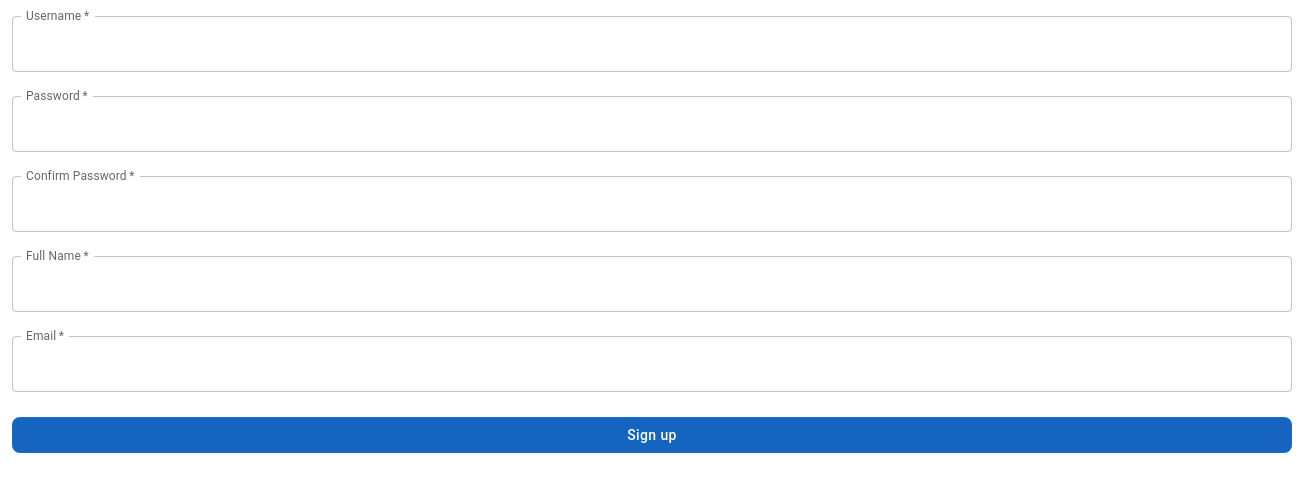
Test: Register Form › displays errors and does not submit the form with unmatched passwords
This screenshot has width=1304, height=493.
Type "myUsername" into the field labelled "Username" at {"x": 652, "y": 44}, box [12,16,1292,72]
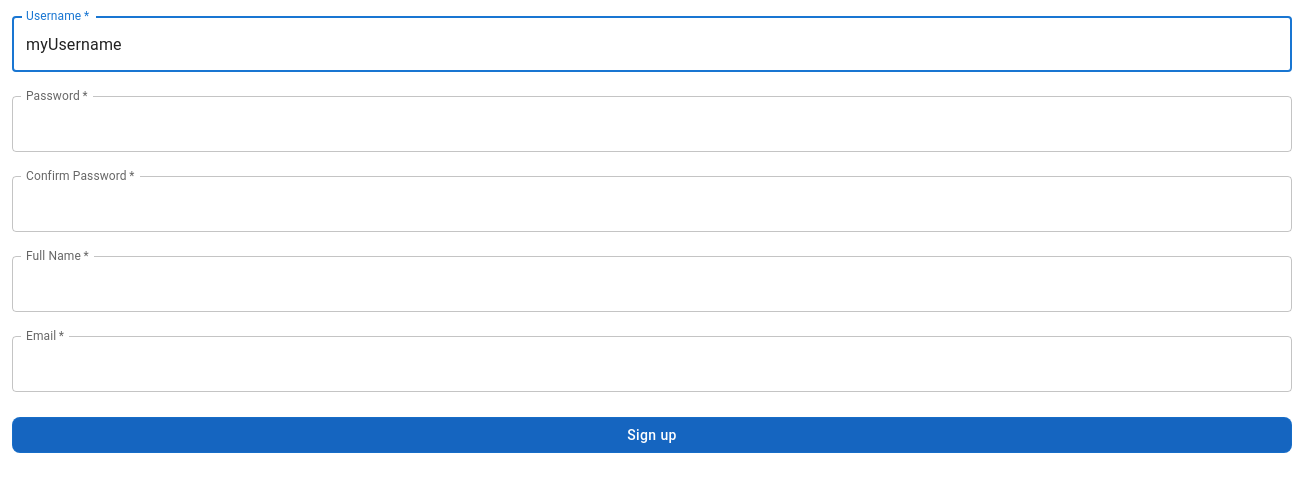
Type "thisIsMyPassword" into the element with test id "pw" at {"x": 652, "y": 124}, box [12,96,1292,152]
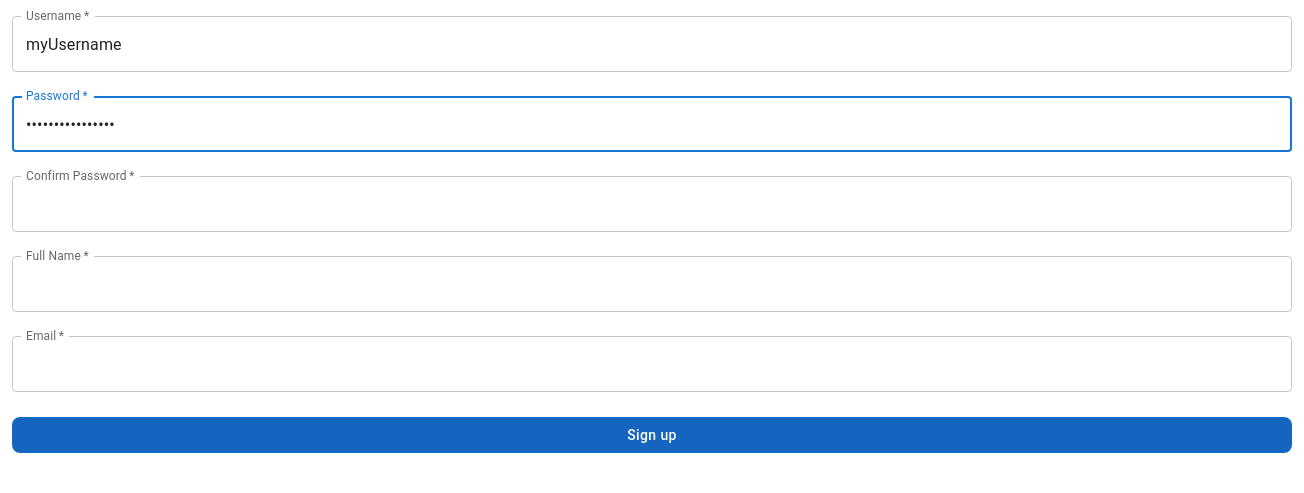
Type "thisIsMyConfirmedPassword" into the element with test id "confirm-pw" at {"x": 652, "y": 204}, box [12,176,1292,232]
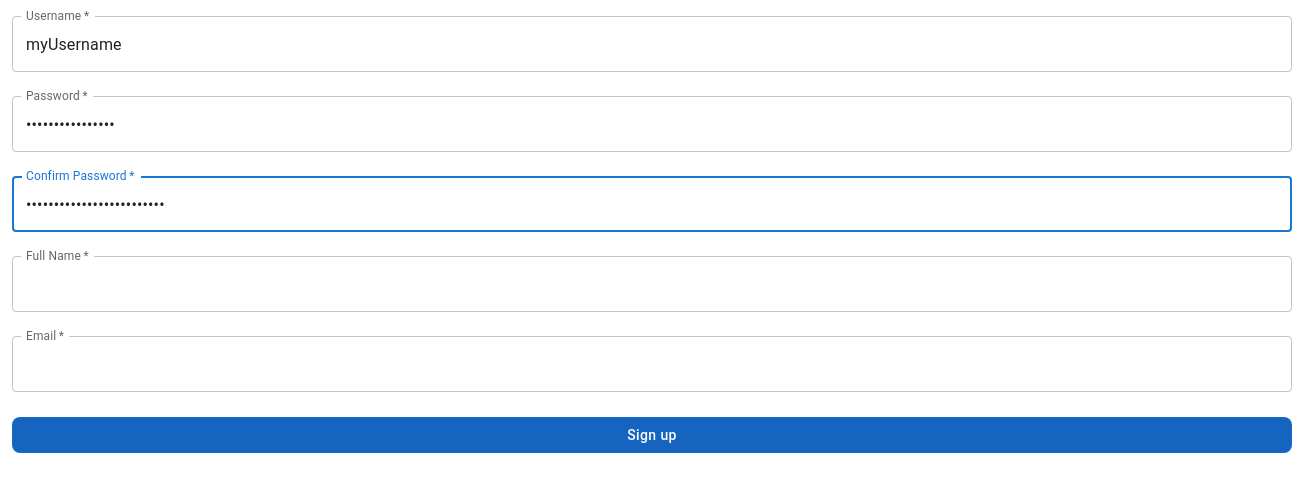
Type "Joe Schmoe" into the field labelled "Full Name" at {"x": 652, "y": 284}, box [12,256,1292,312]
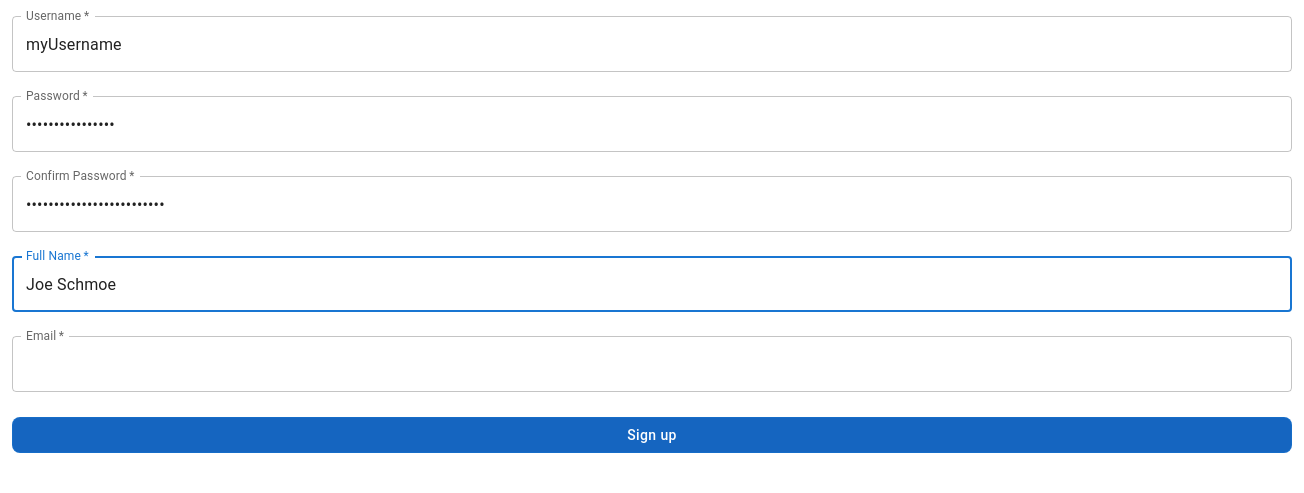
Type "joe@example.test" into the field labelled "Email" at {"x": 652, "y": 364}, box [12,336,1292,392]
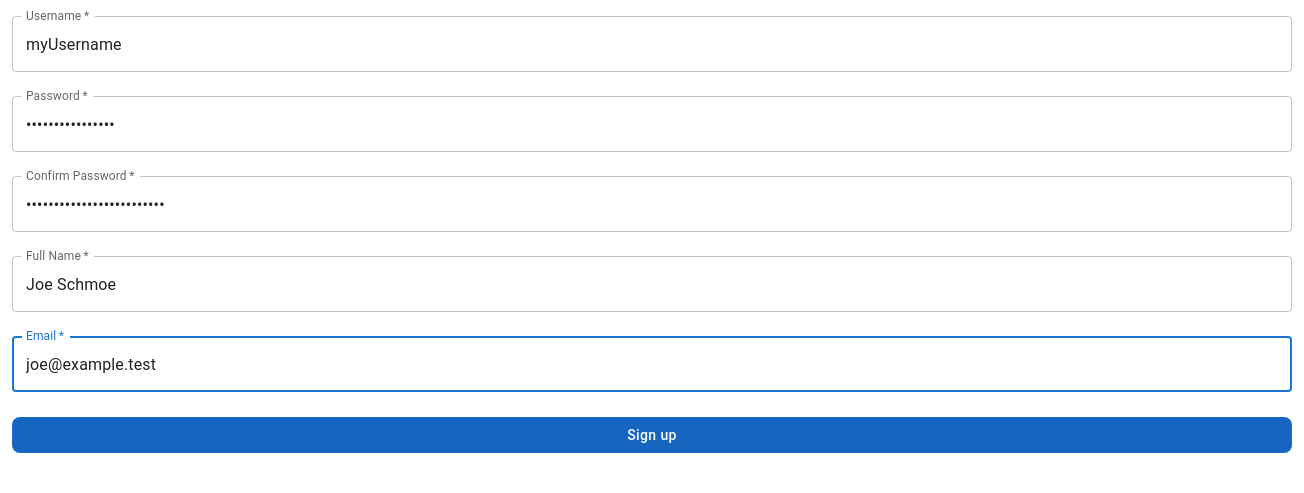
Click the button "Sign up" at {"x": 652, "y": 435}, box [12,416,1292,453]
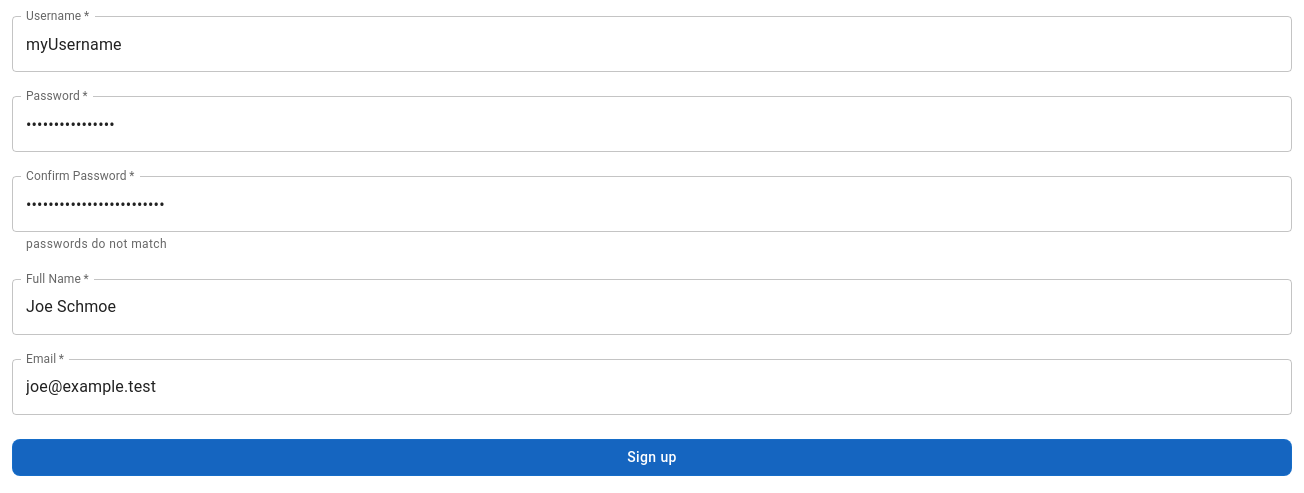
expect the text "passwords do not match" is shown: met, box [26,237,167,251]
